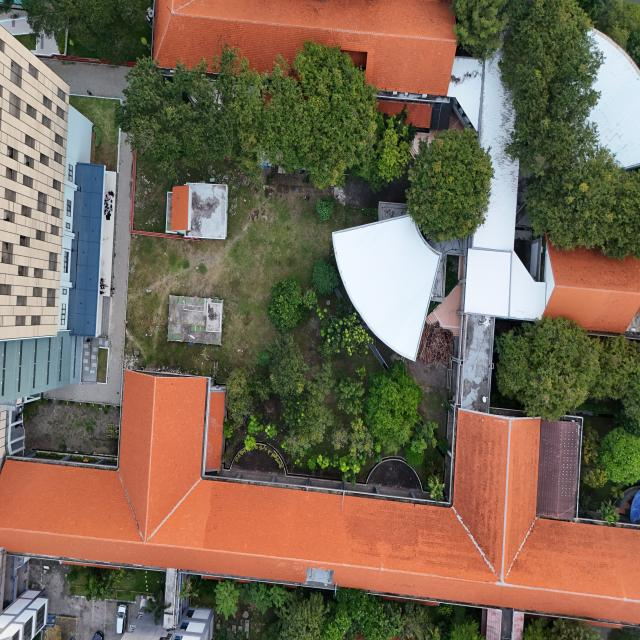Tree: (270, 278, 304, 331), (310, 256, 340, 296), (213, 578, 239, 618), (426, 472, 447, 499), (315, 196, 335, 224), (601, 499, 620, 526)
